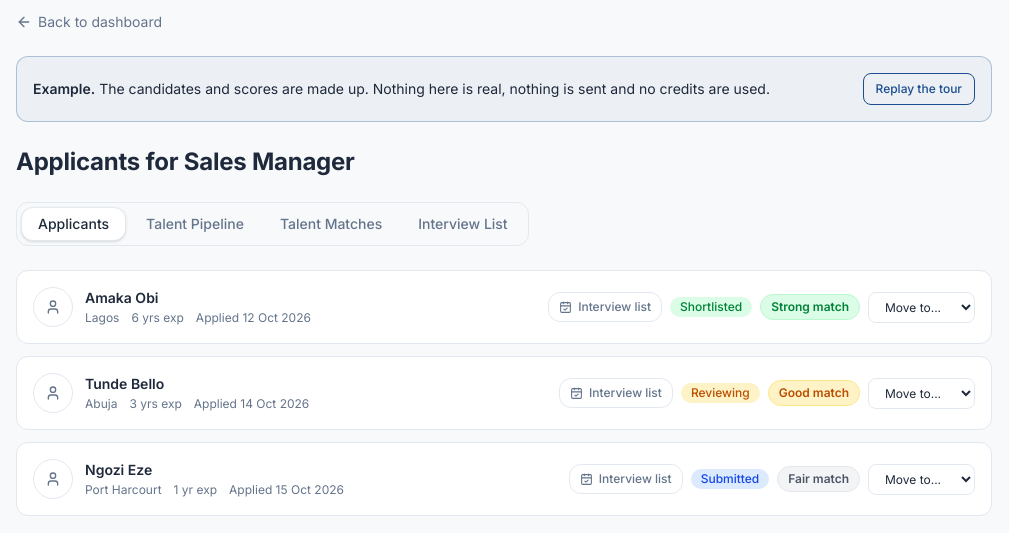
Scenario: ExampleJobTourPage › the Talent Pipeline tab and the Talent Pool › shows CVs scored against the job, one still being read
The width and height of the screenshot is (1009, 533).
Click the tab "Talent Pipeline". click: point(195, 224)
box: top-left (130, 207), bottom-right (260, 241)
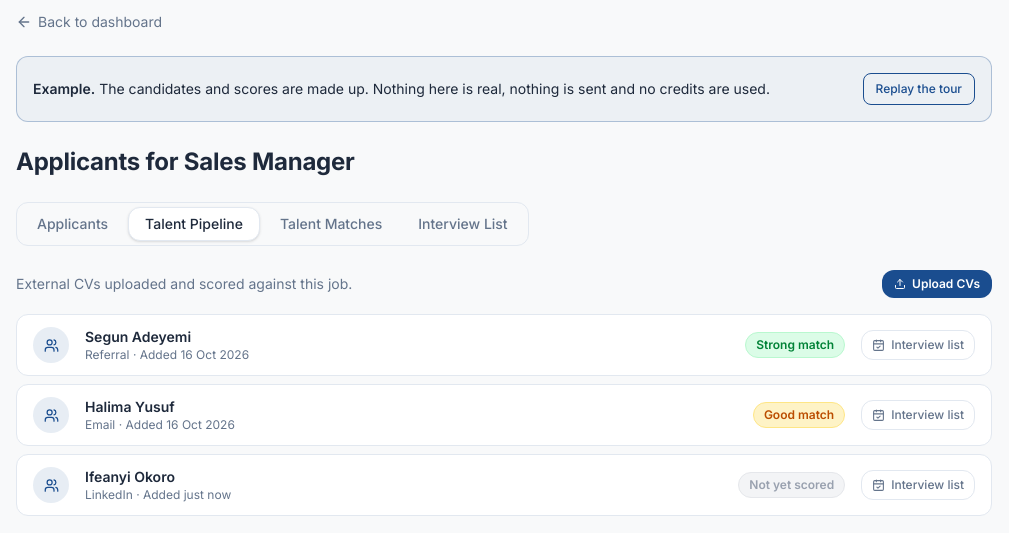
Result: the button "Upload CVs" is shown at top-left (882, 270), bottom-right (992, 298)
Result: the button "Not yet scored" is shown at top-left (738, 472), bottom-right (845, 498)
